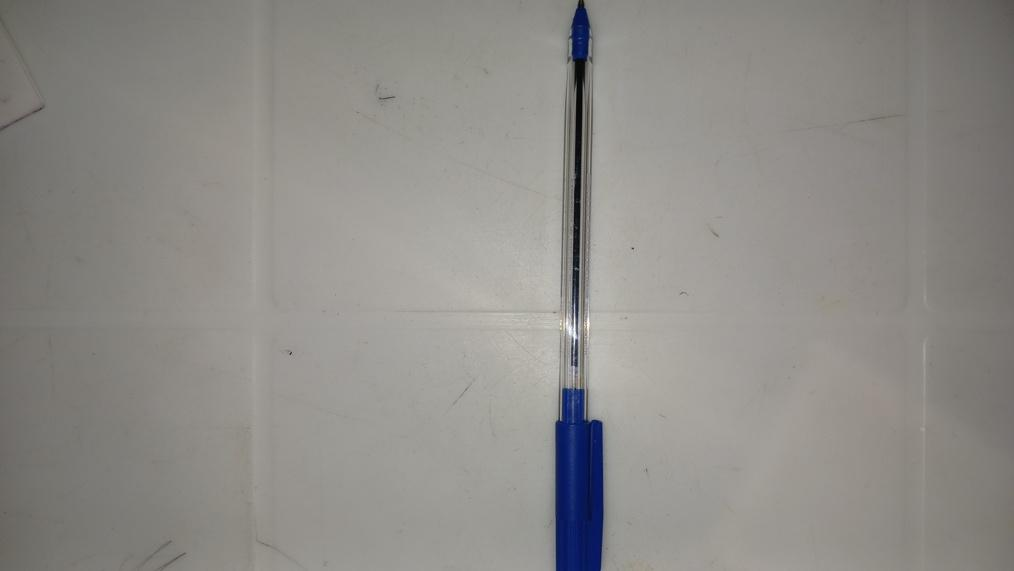pen: (554, 0, 602, 569)
